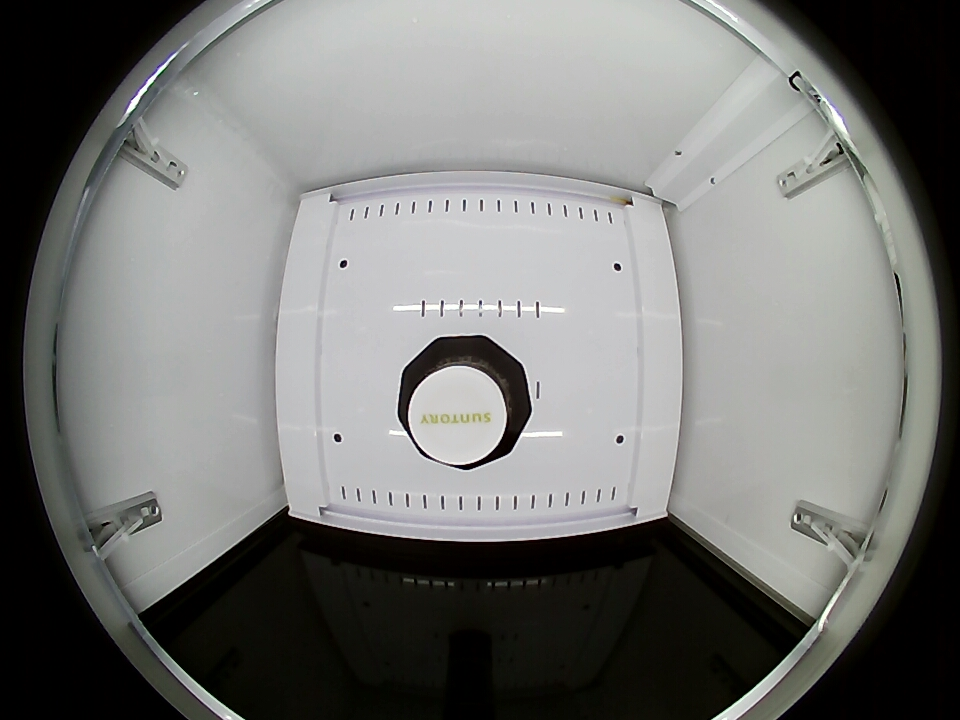wulongcha: (397, 335, 532, 469)
